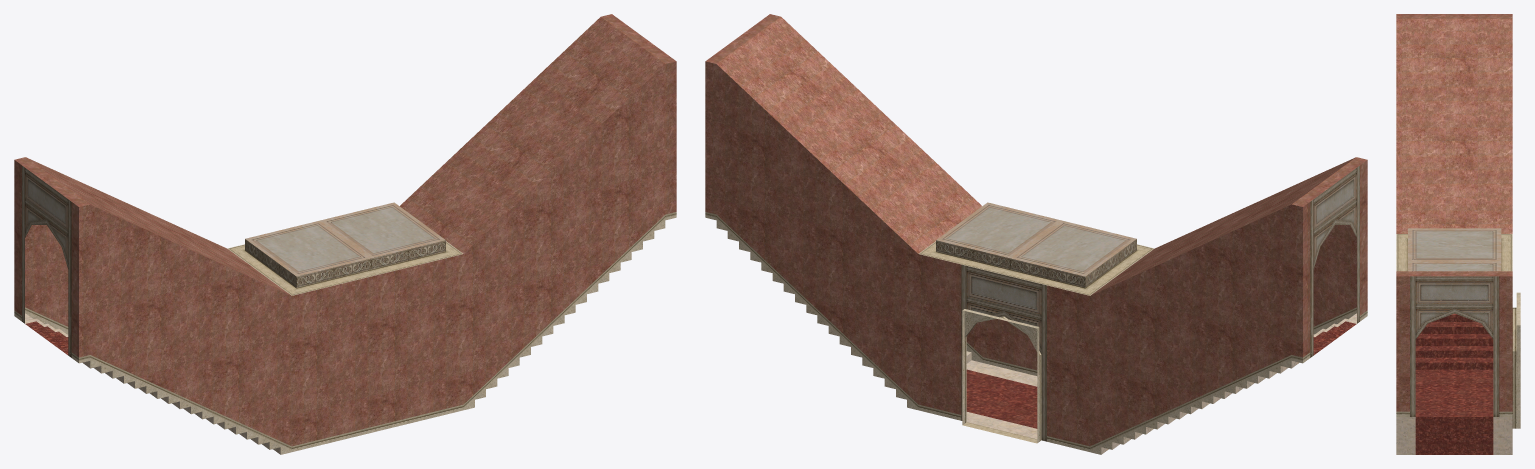
The model's file is ply_nboo_house_lg_s01_fp1_r1_mainfoyer_mesh_r1.fbx.
3 views of the same model, side by side, from view 1: azimuth 30°, elevation 25°; view 2: azimuth 150°, elevation 25°; view 3: azimuth 270°, elevation 25° (orthographic). The views are drawn at different scales.
Visible parts, largest first — view 1: mesh_node; view 2: mesh_node; view 3: mesh_node.
Boxes of the visible parts, x1=… form: mesh_node: x1=14, y1=14, x2=676, y2=454; mesh_node: x1=705, y1=14, x2=1367, y2=454; mesh_node: x1=1396, y1=14, x2=1520, y2=454.
Bounding box in the file's own units: 16 × 7.6 × 3.2.
